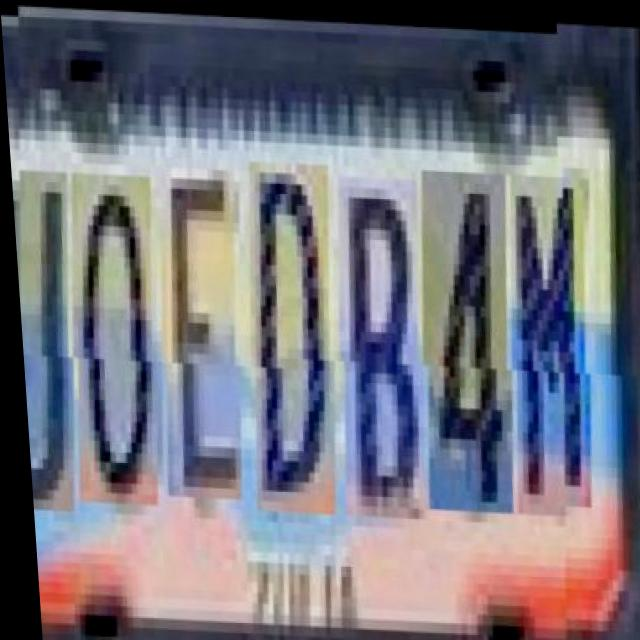4: (409, 165, 528, 507)
b: (327, 172, 439, 514)
d: (238, 158, 350, 511)
e: (150, 165, 256, 497)
m: (500, 168, 607, 511)
o: (61, 171, 172, 503)
u: (9, 167, 88, 509)
